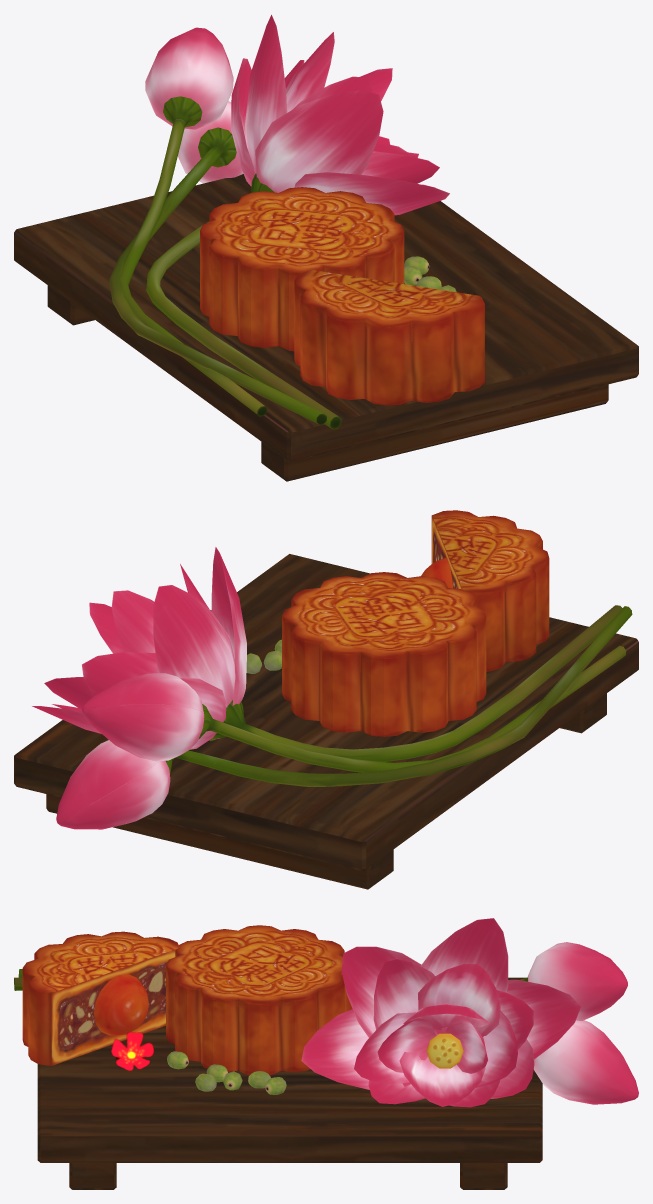
Rendered from mooncake_in_vietnam.glb.
3 renders of one model, top to bottom at view 1: azimuth 30°, elevation 25°; view 2: azimuth 150°, elevation 25°; view 3: azimuth 270°, elevation 25°, orthographic. The views are drawn at different scales.
Visible parts, largest first — view 1: Cube, Circle.006; view 2: Cube, Circle.006; view 3: Cube, Circle.006.
Part boxes in pixels (left/top/right/bottom): Cube: left=14, top=14, right=638, bottom=481; Circle.006: left=200, top=187, right=484, bottom=405; Cube: left=14, top=547, right=638, bottom=889; Circle.006: left=282, top=510, right=549, bottom=736; Cube: left=14, top=918, right=638, bottom=1189; Circle.006: left=22, top=925, right=352, bottom=1075.
Size of the model in its own units: 420 by 266 by 669.
Materials: 2 (2 with a texture image).
